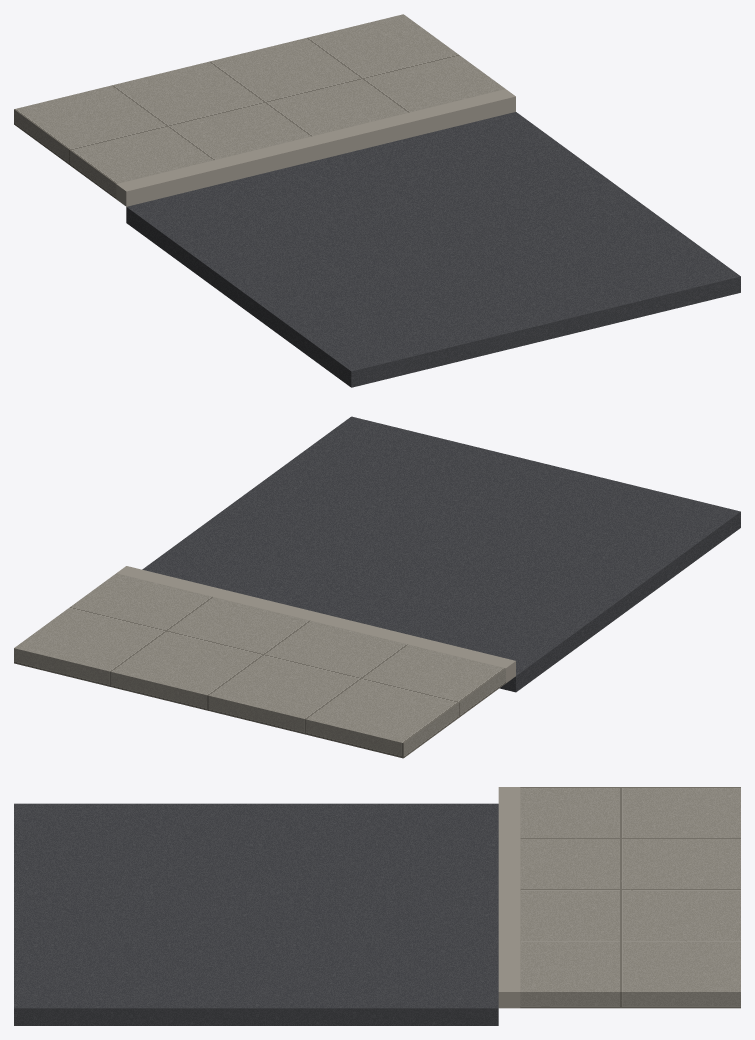
File: MS_RD_07_DeadEnd_4m.glb
3 renders of one model, top to bottom at view 1: azimuth 30°, elevation 25°; view 2: azimuth 150°, elevation 25°; view 3: azimuth 270°, elevation 25°, orthographic. The views are drawn at different scales.
Parts seen in each view (by area): view 1: Asphalt.008, Concrete.001, End_Curb.001; view 2: Asphalt.008, Concrete.001, End_Curb.001; view 3: Asphalt.008, Concrete.001, End_Curb.001.
Boxes of the visible parts, <box> form: Asphalt.008: <box>126,112,740,387</box>; Concrete.001: <box>14,14,505,198</box>; End_Curb.001: <box>116,89,515,206</box>; Asphalt.008: <box>142,416,740,692</box>; Concrete.001: <box>14,573,505,758</box>; End_Curb.001: <box>116,566,515,683</box>; Asphalt.008: <box>14,803,498,1025</box>; Concrete.001: <box>520,787,740,1008</box>; End_Curb.001: <box>498,787,520,1008</box>.
Size of the model in its own units: 4 by 0.31 by 6.
3 materials, 2 textured.
